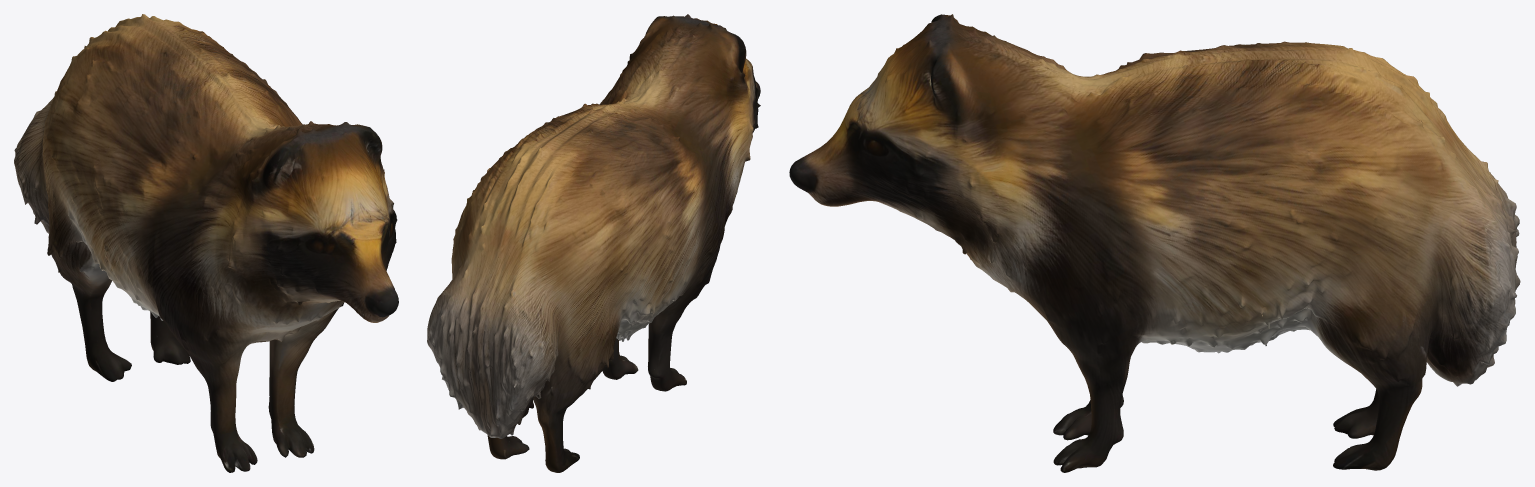
File: sobakaenot.glb
3 renders of one model, left to right at view 1: azimuth 30°, elevation 25°; view 2: azimuth 150°, elevation 25°; view 3: azimuth 270°, elevation 25°, orthographic. The views are drawn at different scales.
Visible parts, largest first — view 1: tripo_node_3435e875-ace5-4204-965a-2d79b7e1cbd1; view 2: tripo_node_3435e875-ace5-4204-965a-2d79b7e1cbd1; view 3: tripo_node_3435e875-ace5-4204-965a-2d79b7e1cbd1.
Boxes of the visible parts, x1,y1,x2,y2 form: tripo_node_3435e875-ace5-4204-965a-2d79b7e1cbd1: [14, 14, 398, 472]; tripo_node_3435e875-ace5-4204-965a-2d79b7e1cbd1: [427, 14, 760, 472]; tripo_node_3435e875-ace5-4204-965a-2d79b7e1cbd1: [789, 14, 1520, 472].
Bounding box in the file's own units: 0.3378 × 0.6097 × 0.9505.
Materials: 1 (1 with a texture image).
